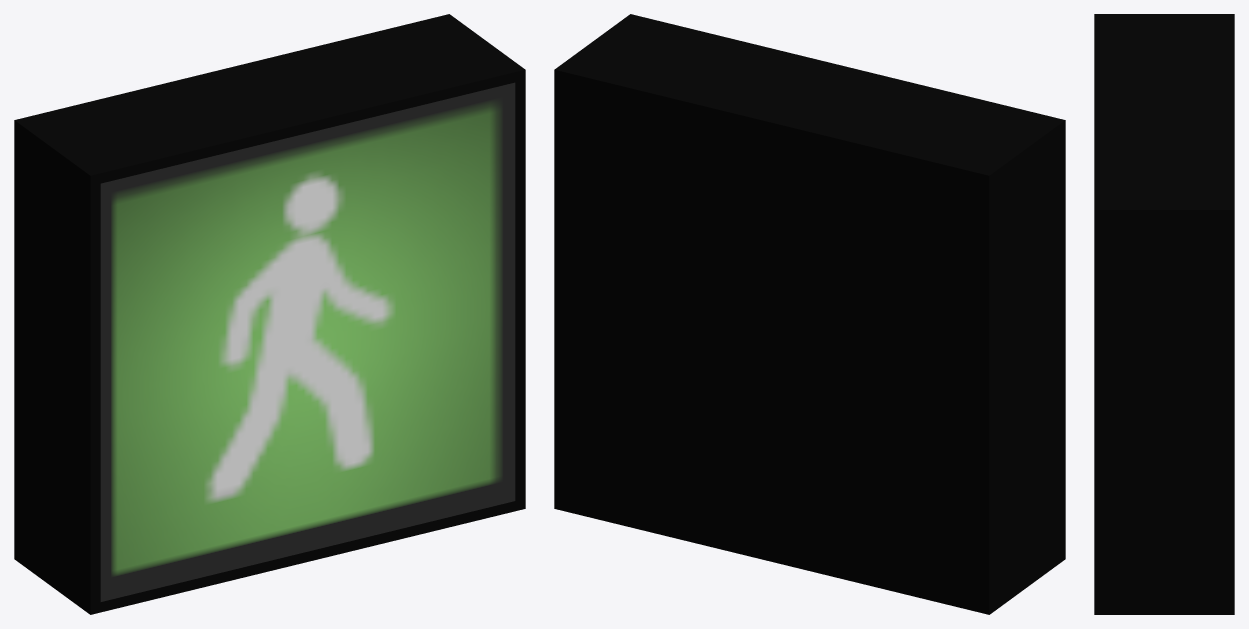
Rendered from Walk.fbx.
3 views of the same model, side by side, from view 1: azimuth 30°, elevation 25°; view 2: azimuth 150°, elevation 25°; view 3: azimuth 270°, elevation 25° (orthographic). The views are drawn at different scales.
Parts seen in each view (by area): view 1: Cube; view 2: Cube; view 3: Cube.
Boxes of the visible parts, box(x1,y1,x2,y2) form: Cube: box(14, 14, 525, 614); Cube: box(554, 14, 1065, 614); Cube: box(1094, 14, 1234, 614).
Bounding box in the file's own units: 215 × 208 × 65.2.
